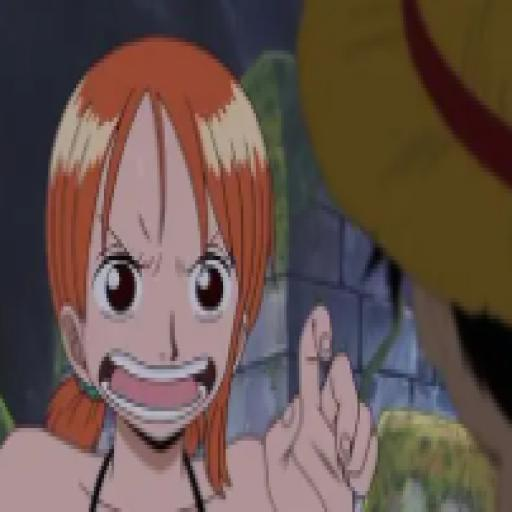Nami: (0, 32, 386, 512)
